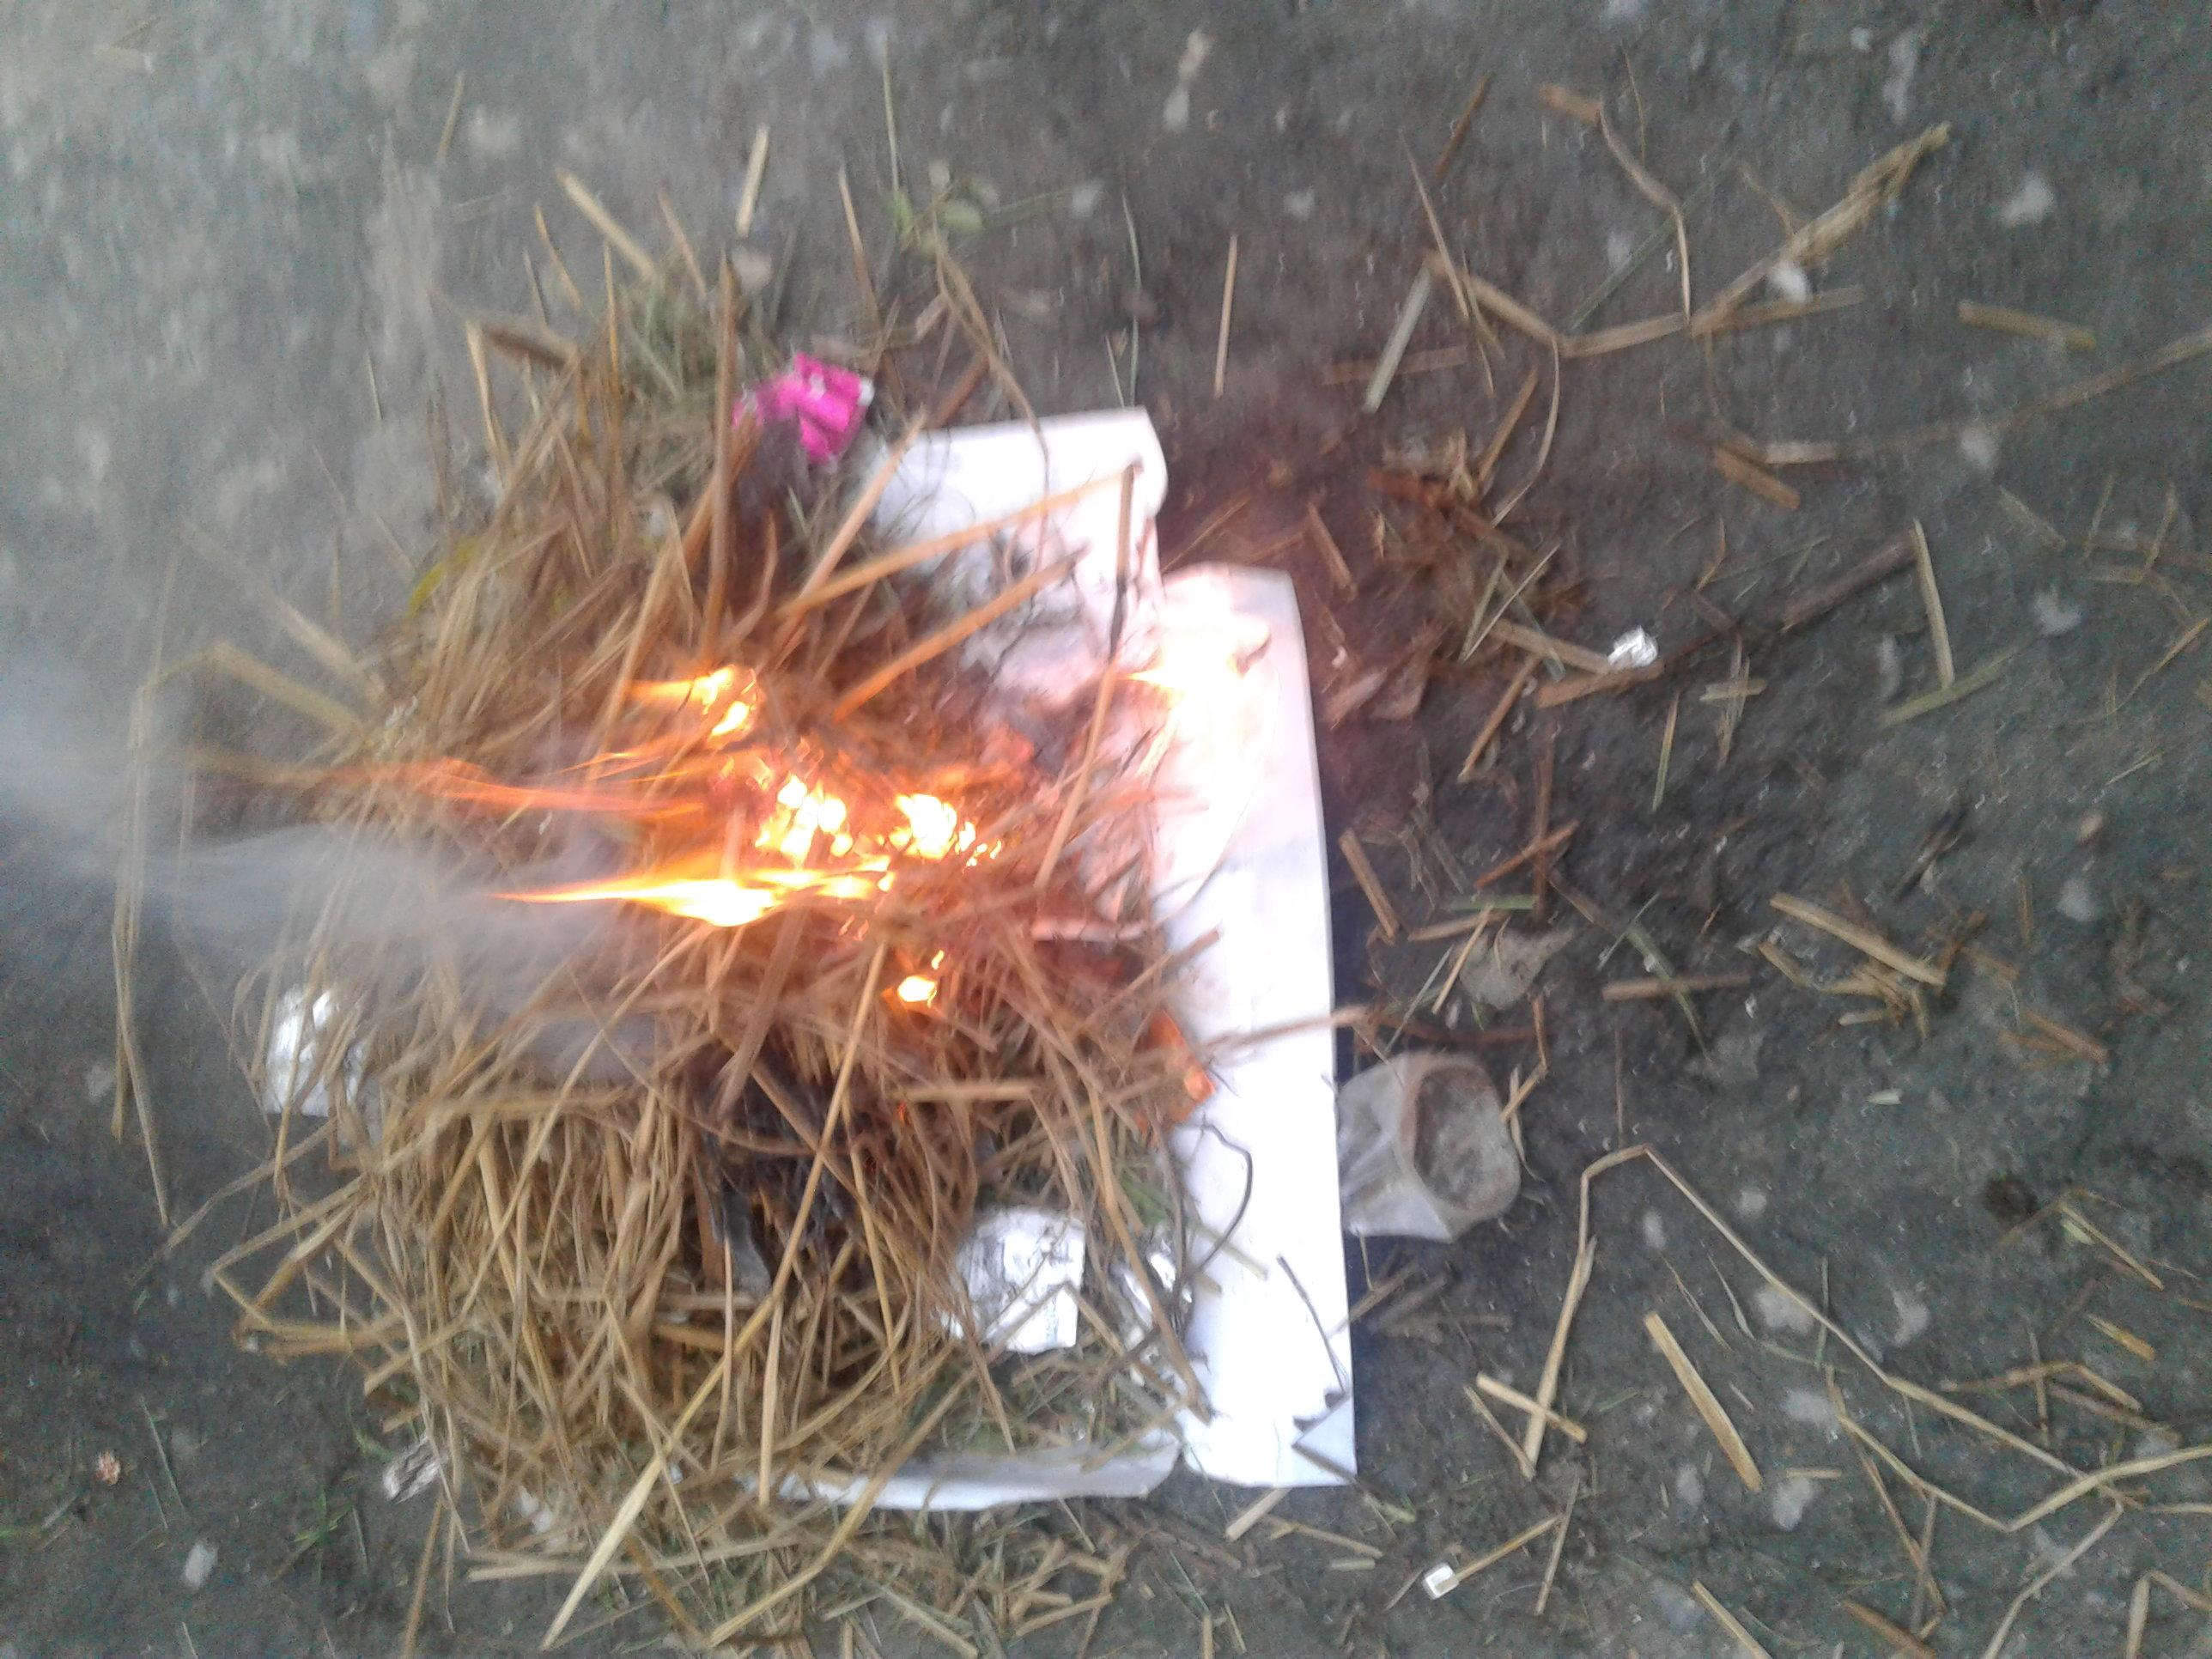Fire: (986, 207, 1287, 779)
